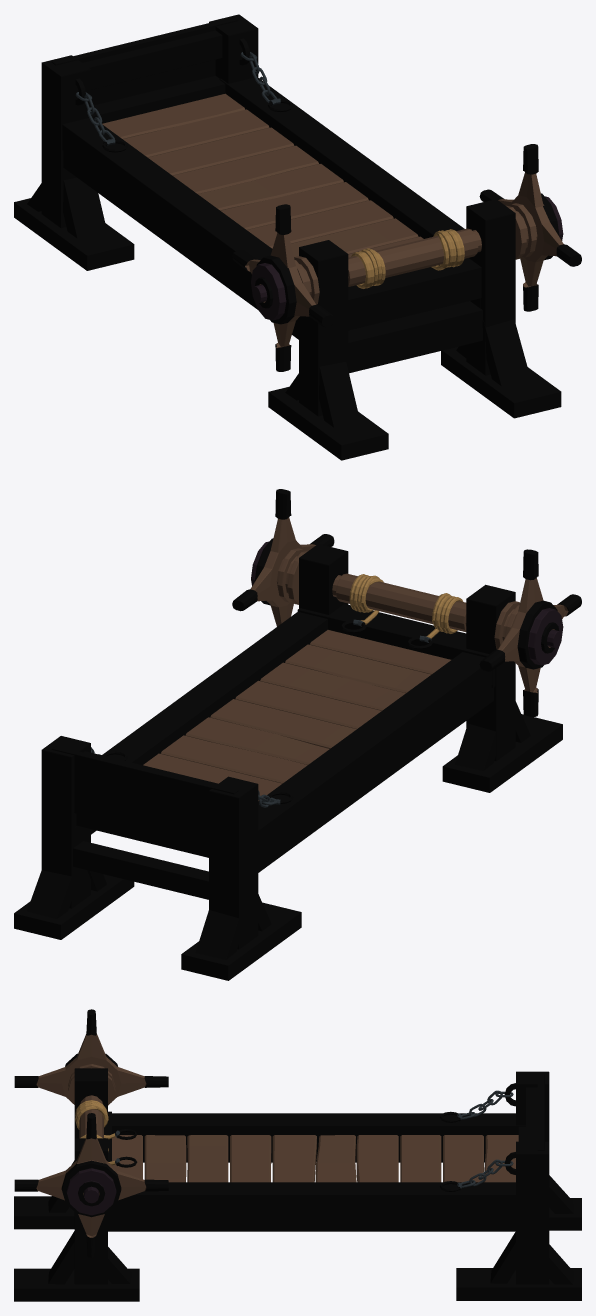
File: Rack.fbx
The picture shows the model from 3 angles, top to bottom: view 1: azimuth 30°, elevation 25°; view 2: azimuth 150°, elevation 25°; view 3: azimuth 270°, elevation 25°; orthographic projection. The views are drawn at different scales.
Visible parts, largest first — view 1: Rack; view 2: Rack; view 3: Rack.
Part boxes in pixels (x1,y1,x2,y2): Rack: (14, 14, 581, 460); Rack: (14, 489, 581, 980); Rack: (14, 1009, 581, 1301).
Size of the model in its own units: 1.73 by 1.25 by 3.29.
